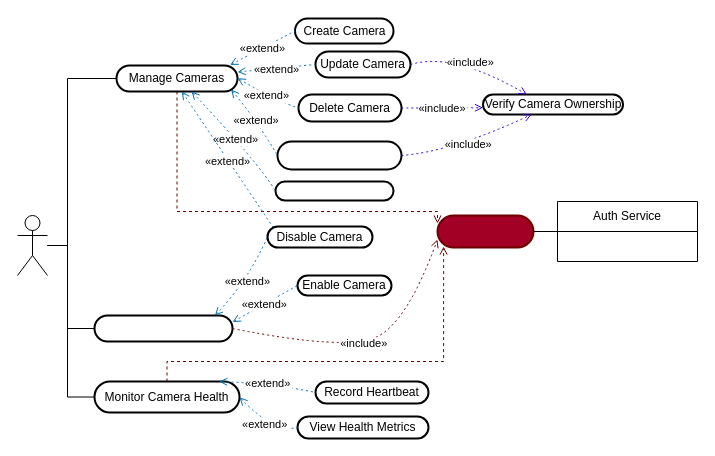
This 715x456 diagram has some shape labels left out. The centre of each missing label's shape, as x and y in pixels:
Authenticate: the point at 485,231
List My Cameras: the point at 334,190
Toggle Camera Status: the point at 163,328
User: the point at 32,245
View Camera Details: the point at 339,155
